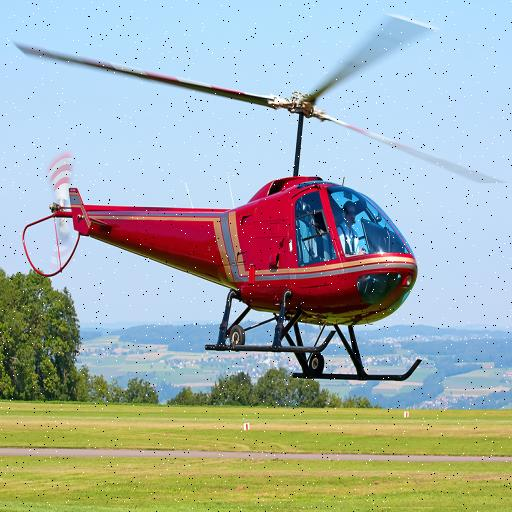helicopter: (17, 22, 497, 382)
